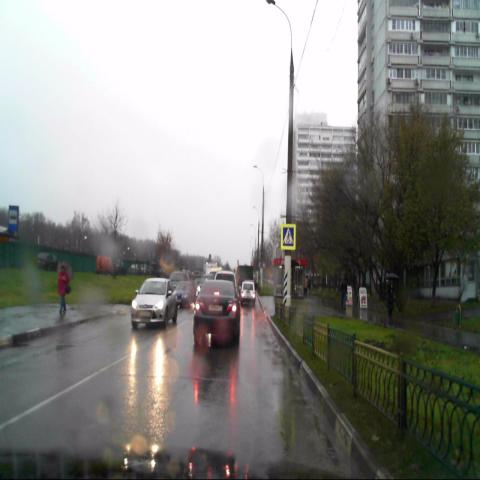5_19_1: (281, 224, 295, 249)
